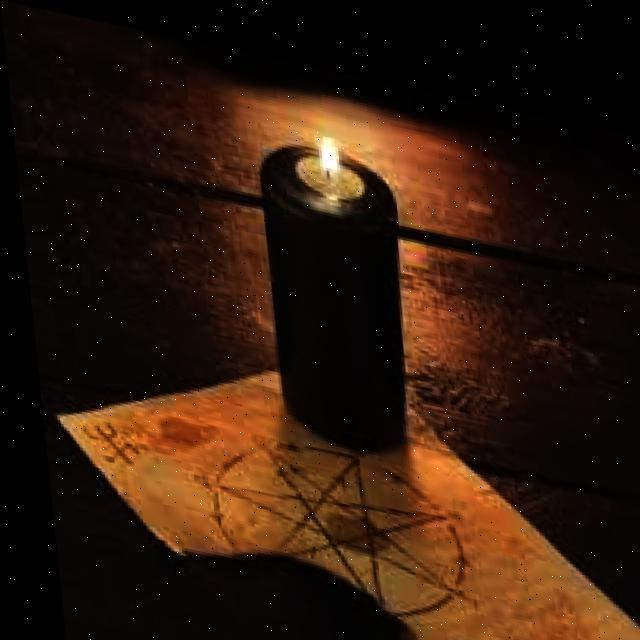Fire: (298, 113, 353, 173)
